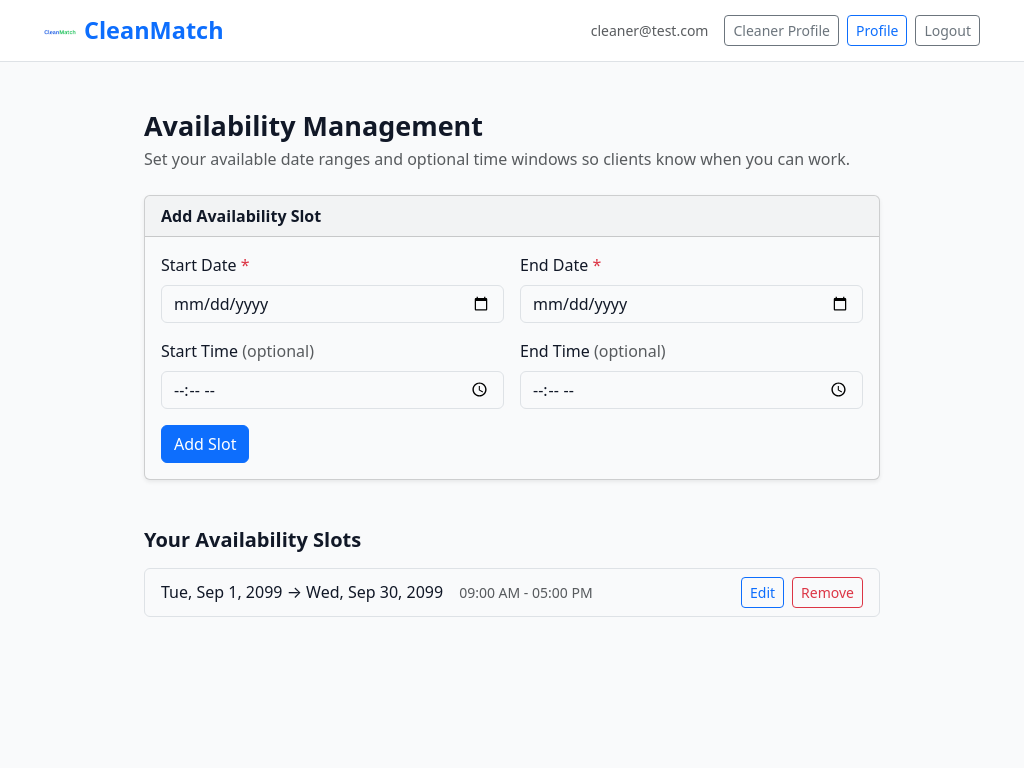
Test: CleanerAvailabilityPage – edit and delete › clicking Edit populates the form and shows "Edit Availability Slot" heading
Click the button "Edit": (763,592) [741,576,784,608]
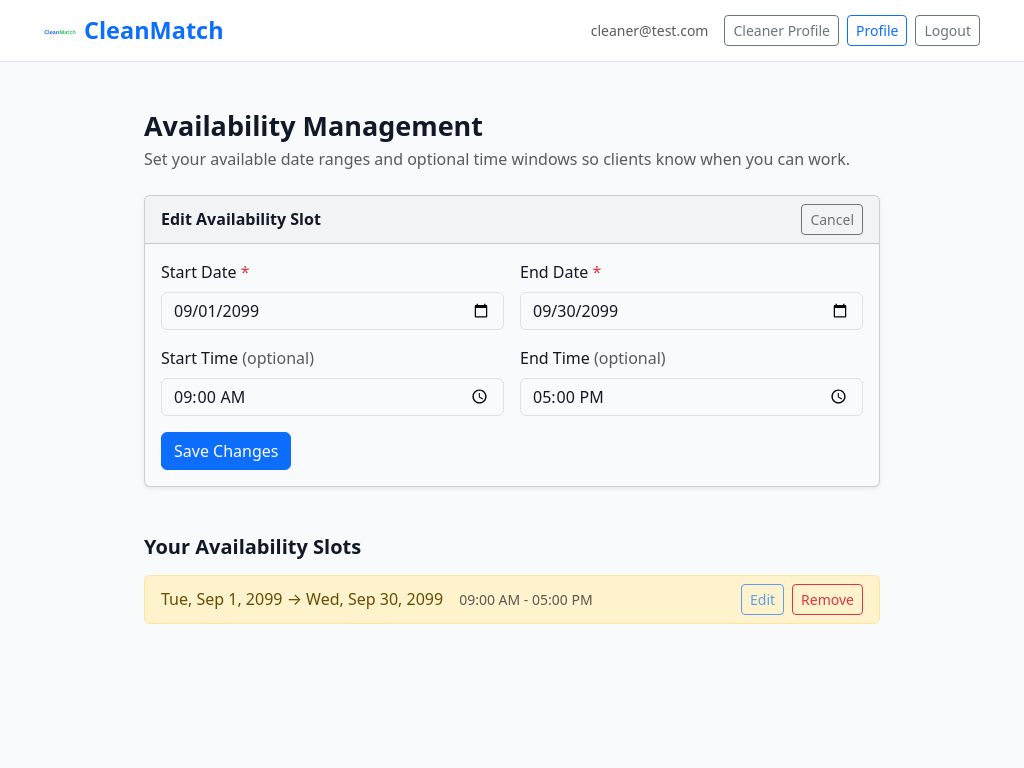
Check: the text "Edit Availability Slot" is shown, box [161,207,321,231]
